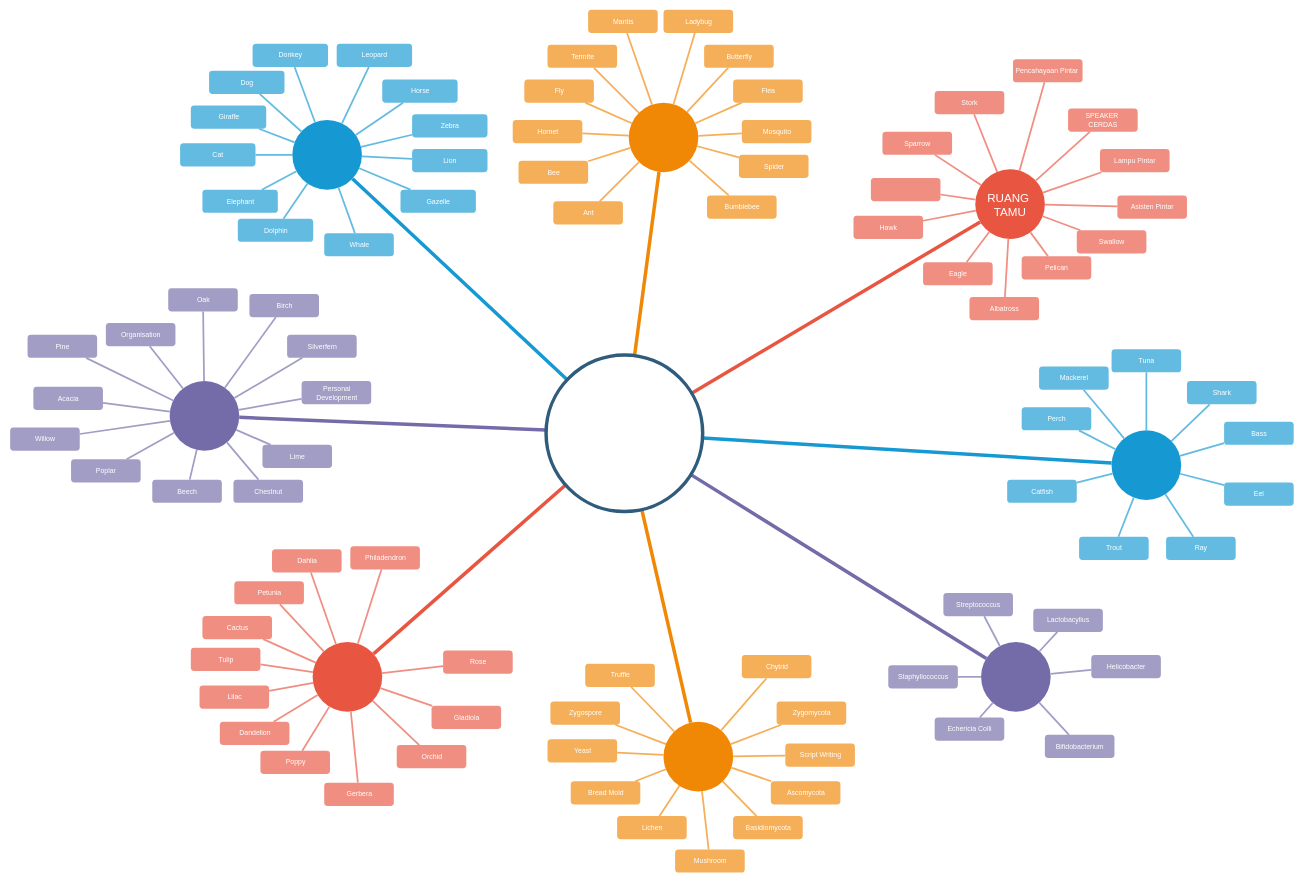
The diagram is 1303 pixels wide and 883 high, and some of its shapes have lost their labels. The centre of each missing label's shape, as x and y in pixels:
"DAPUR" belongs at [1015,676].
"Falcon" belongs at [905,189].
"Flower" belongs at [347,676].
"KAMAR MANDI" belongs at [698,756].
"KAMAR TIDUR" belongs at [1146,465].
"Mammal" belongs at [327,154].
"SMART HOME" belongs at [624,433].
"TAMAN" belongs at [663,137].
"Tree" belongs at [204,415].
